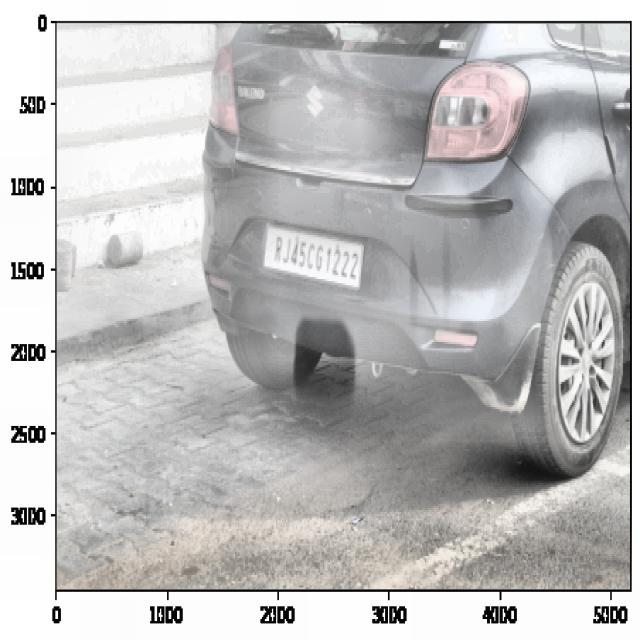license_plate: (269, 228, 363, 290)
